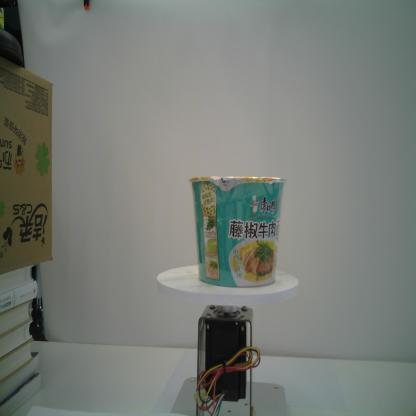Instant Noodles: (188, 174, 287, 289)
